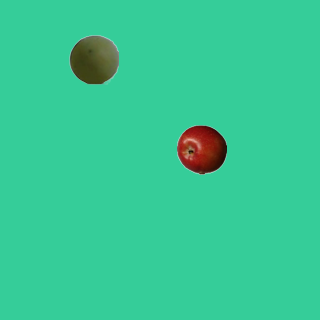Apple Braeburn: (176, 124, 226, 174)
Grape White 4: (68, 34, 118, 84)
